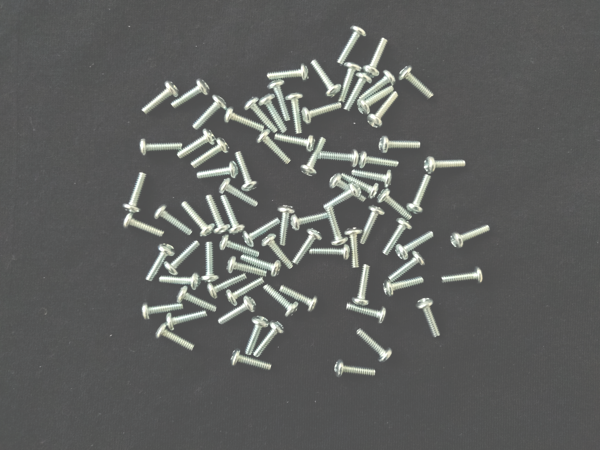shortscrew: (190, 94, 228, 131), (243, 96, 280, 134), (164, 241, 201, 277), (336, 25, 367, 67), (142, 80, 179, 115), (191, 137, 230, 170), (309, 58, 341, 98), (177, 129, 217, 161), (399, 65, 435, 100), (257, 129, 292, 165), (357, 330, 394, 364), (153, 204, 193, 235), (218, 177, 258, 208), (264, 285, 300, 319), (359, 70, 396, 103), (258, 92, 287, 134), (254, 320, 286, 358), (171, 79, 211, 109), (182, 202, 216, 237), (344, 71, 373, 112), (368, 92, 400, 129), (243, 217, 281, 248), (396, 231, 435, 261), (222, 106, 265, 133), (145, 244, 175, 282), (383, 218, 413, 256), (292, 228, 322, 266), (329, 174, 368, 203), (155, 324, 195, 352), (225, 278, 265, 306), (358, 87, 395, 117), (450, 224, 492, 250), (323, 183, 362, 211), (389, 251, 425, 281), (338, 175, 381, 200), (218, 297, 256, 325), (221, 194, 246, 236), (417, 298, 442, 340), (301, 137, 327, 177), (406, 175, 432, 215), (363, 37, 389, 77), (235, 151, 260, 192), (122, 172, 147, 213), (123, 214, 165, 238), (206, 195, 230, 237), (268, 78, 291, 121), (301, 102, 343, 125), (196, 160, 238, 183), (246, 316, 270, 356), (361, 205, 385, 245), (281, 286, 319, 311), (339, 62, 362, 103), (227, 256, 268, 279), (230, 350, 272, 372), (346, 303, 388, 325), (241, 255, 283, 277), (359, 149, 399, 171), (334, 359, 377, 379), (220, 237, 259, 259), (318, 148, 360, 168), (352, 264, 372, 306), (166, 311, 208, 331), (327, 208, 348, 248), (440, 266, 484, 285), (383, 277, 424, 297), (267, 63, 309, 82), (286, 92, 305, 134), (275, 133, 317, 152), (379, 136, 422, 154), (351, 170, 394, 188), (345, 228, 364, 268), (290, 212, 330, 231), (160, 273, 202, 291), (424, 157, 466, 175), (141, 302, 183, 320), (378, 190, 407, 216), (277, 205, 295, 245), (139, 139, 183, 155), (309, 245, 351, 260)
